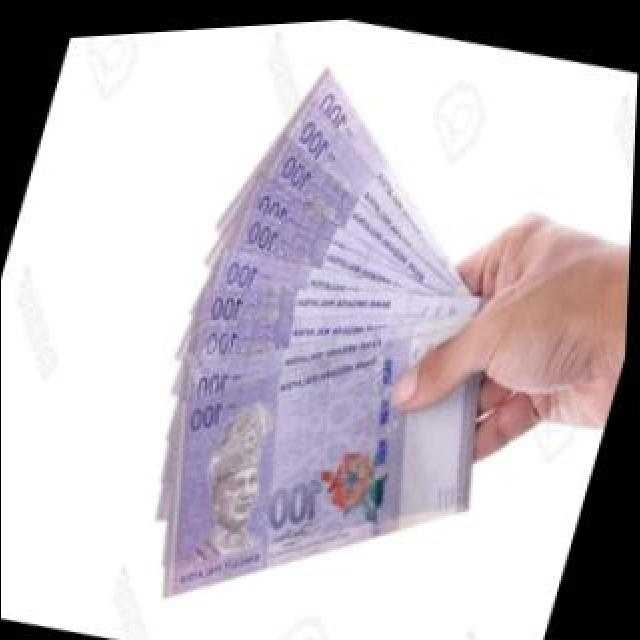100 Ringgit: (116, 248, 528, 640)
